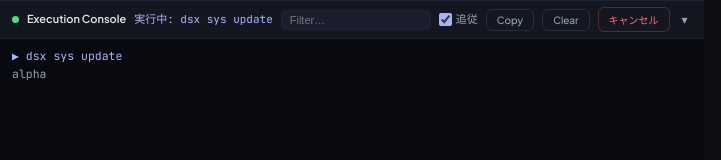
Scenario: LogConsole — 絞り込み・コピー・クリア › 一致する行がないときは、その旨を表示する
This screenshot has width=721, height=160.
In the field named "ログを絞り込む": (356, 20) [281,10,431,30], type "zzz"
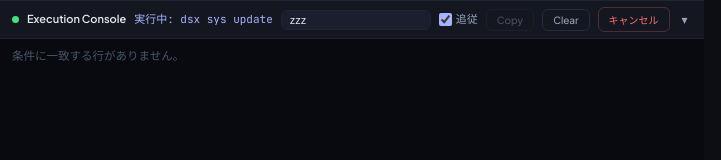
Expected: the text "条件に一致する行がありません。" is shown, [12,48,184,63]
